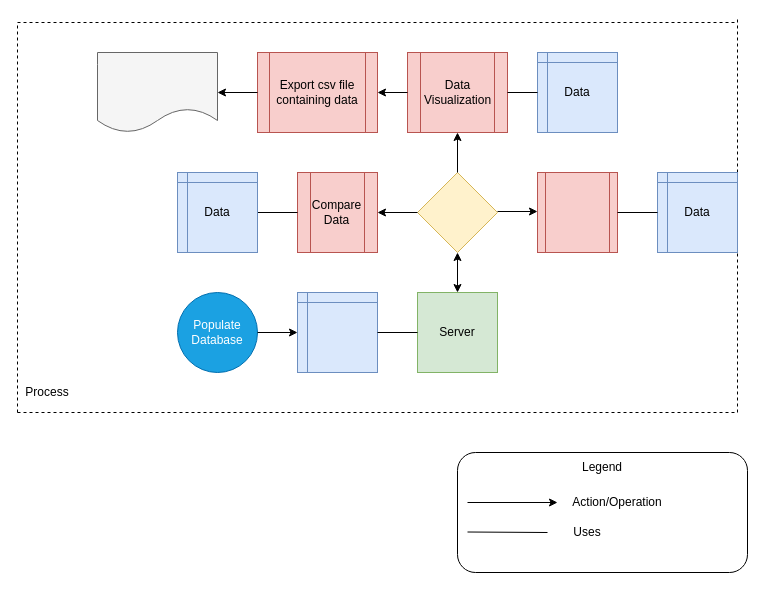
This 765x590 diagram has some shape labels left out. The centre of each missing label's shape, as x and y in pixels:
Data.csv: point (157, 92)
Database: point (337, 332)
Handler: point (457, 212)
Show Statistics: point (577, 212)
